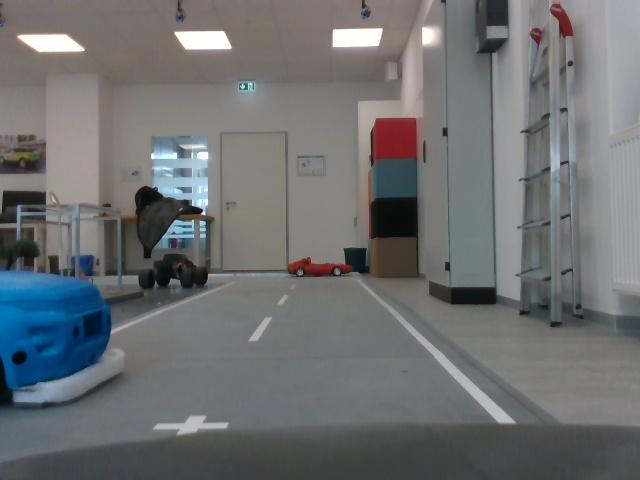car: (1, 264, 129, 405), (137, 250, 214, 297), (288, 254, 359, 285)
potted plant: (2, 204, 45, 268)
